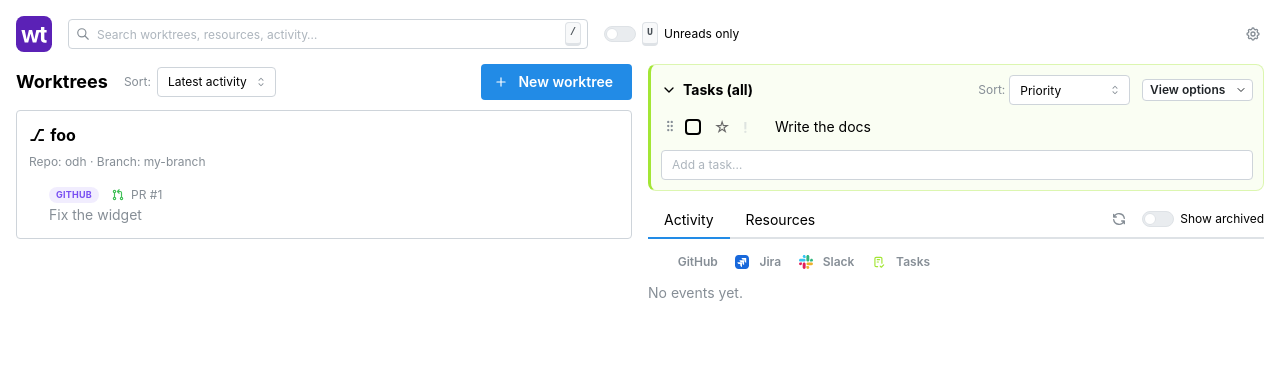
Test case: HomePage responsive layout › swaps the activity feed for the resources list on the Resources tab
This screenshot has width=1280, height=371.
What coordinates should you click on to do the following:
click the tab "Resources"
I would click on:
 (780, 221)
Its box is x1=730 y1=203 x2=831 y2=239.
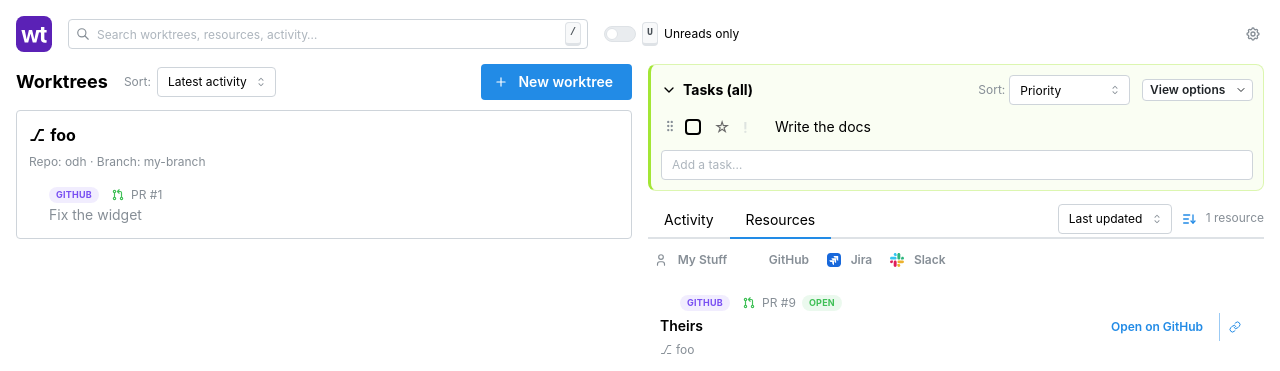
Expected: the text "Fix the widget" is shown, x1=49 y1=205 x2=142 y2=226
Expected: the text "Theirs" is shown, x1=660 y1=316 x2=703 y2=336
